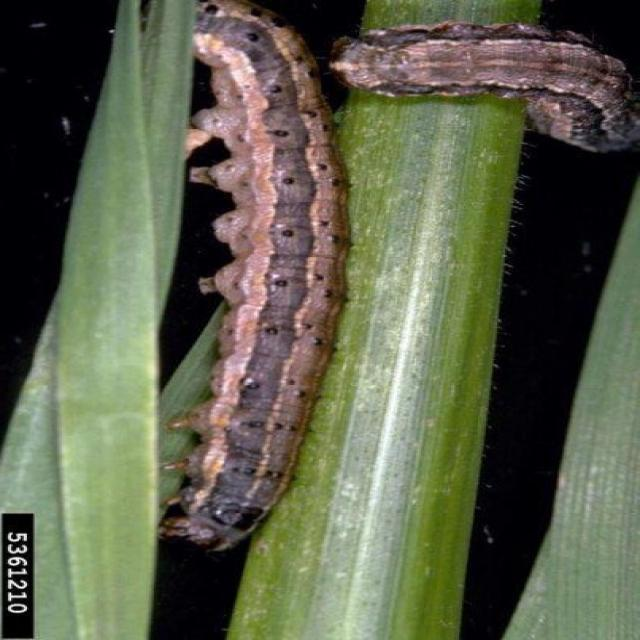army worm: (168, 3, 349, 553), (326, 16, 632, 157)
